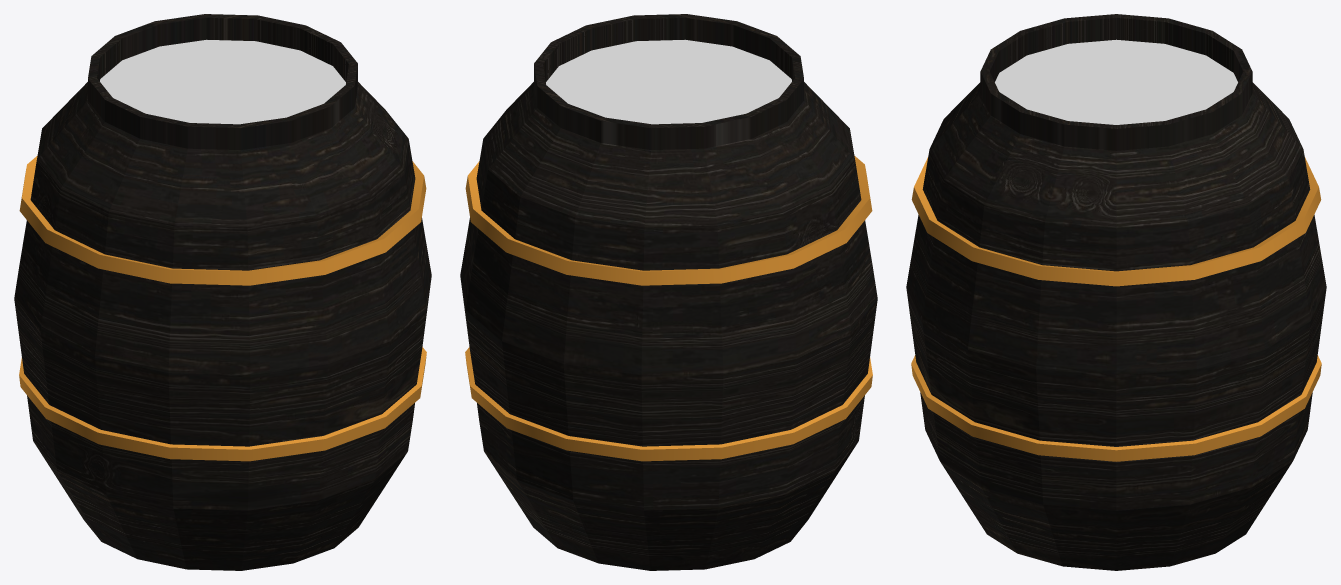
File: barrel.fbx
3 views of the same model, side by side, from view 1: azimuth 30°, elevation 25°; view 2: azimuth 150°, elevation 25°; view 3: azimuth 270°, elevation 25° (orthographic).
Parts seen in each view (by area): view 1: Cylinder, inside, rings; view 2: Cylinder, inside, rings; view 3: Cylinder, inside, rings.
Part boxes in pixels (x1,y1,x2,y2): Cylinder: (14,14,431,570); inside: (100,39,345,124); rings: (19,155,426,461); Cylinder: (460,14,877,570); inside: (546,39,791,124); rings: (465,155,872,461); Cylinder: (906,14,1326,570); inside: (995,39,1237,124); rings: (911,157,1321,461).
Bounding box in the file's own units: 788 × 911 × 788.
